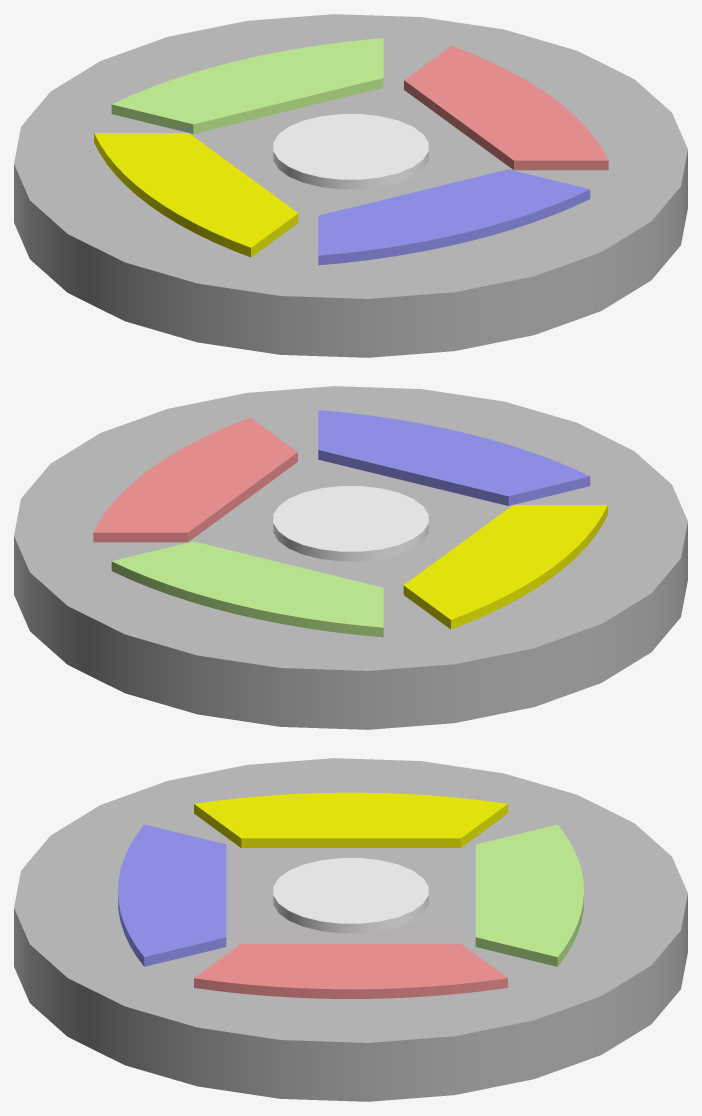
The model's file is full_yellow.obj.
3 renders of one model, top to bottom at view 1: azimuth 30°, elevation 25°; view 2: azimuth 150°, elevation 25°; view 3: azimuth 270°, elevation 25°, orthographic.
Visible parts, largest first — view 1: Mesh5 Model, Mesh1 Group1 Model, Mesh3 Group3 Model, Mesh2 Group2 Model, Mesh4 Group4 Model; view 2: Mesh5 Model, Mesh3 Group3 Model, Mesh1 Group1 Model, Mesh2 Group2 Model, Mesh4 Group4 Model; view 3: Mesh5 Model, Mesh2 Group2 Model, Mesh4 Group4 Model, Mesh1 Group1 Model, Mesh3 Group3 Model.
Boxes of the visible parts, x1=… form: Mesh5 Model: x1=14, y1=14, x2=687, y2=357; Mesh1 Group1 Model: x1=318, y1=169, x2=590, y2=265; Mesh3 Group3 Model: x1=111, y1=38, x2=383, y2=133; Mesh2 Group2 Model: x1=404, y1=45, x2=608, y2=170; Mesh4 Group4 Model: x1=94, y1=133, x2=298, y2=257; Mesh5 Model: x1=14, y1=386, x2=687, y2=729; Mesh3 Group3 Model: x1=111, y1=541, x2=383, y2=637; Mesh1 Group1 Model: x1=318, y1=410, x2=590, y2=505; Mesh2 Group2 Model: x1=93, y1=417, x2=297, y2=542; Mesh4 Group4 Model: x1=403, y1=505, x2=607, y2=629; Mesh5 Model: x1=14, y1=758, x2=687, y2=1101; Mesh2 Group2 Model: x1=194, y1=943, x2=507, y2=998; Mesh4 Group4 Model: x1=194, y1=792, x2=507, y2=847; Mesh1 Group1 Model: x1=118, y1=824, x2=226, y2=966; Mesh3 Group3 Model: x1=475, y1=824, x2=583, y2=966.
Size of the model in its own units: 183 by 20.5 by 183.
